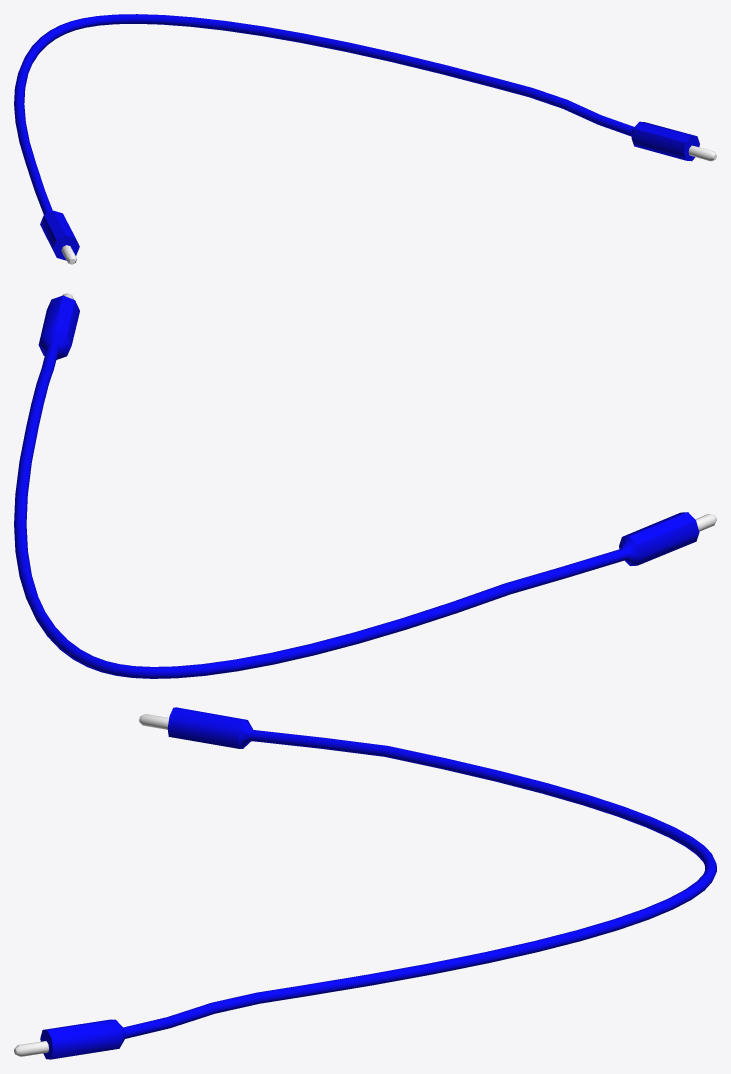
File: ElectroWires04_3.FBX
3 views of the same model, one above another, from view 1: azimuth 30°, elevation 25°; view 2: azimuth 150°, elevation 25°; view 3: azimuth 270°, elevation 25° (orthographic). The views are drawn at different scales.
Visible parts, largest first — view 1: Wire04; view 2: Wire04; view 3: Wire04.
Boxes of the visible parts, bbox=[...] form: Wire04: bbox=[14, 14, 716, 264]; Wire04: bbox=[14, 293, 716, 678]; Wire04: bbox=[14, 707, 716, 1059].
Bounding box in the file's own units: 68.55 × 2.97 × 60.57.
